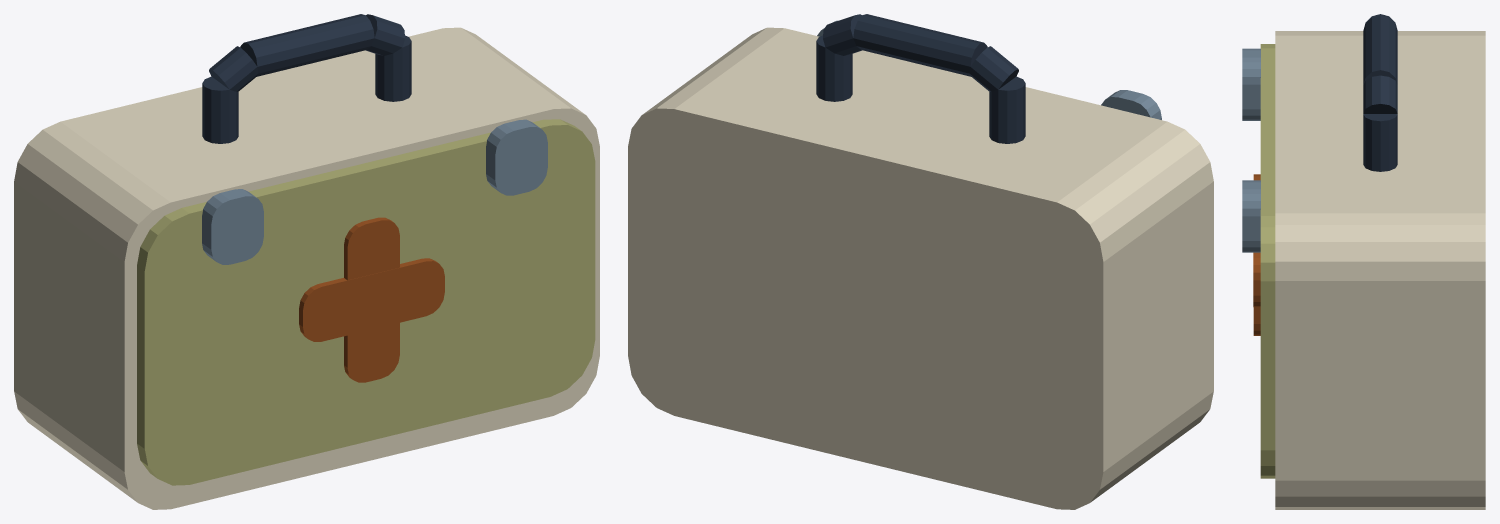
File: firstaid.glb
3 views of the same model, side by side, from view 1: azimuth 30°, elevation 25°; view 2: azimuth 150°, elevation 25°; view 3: azimuth 270°, elevation 25° (orthographic). The views are drawn at different scales.
Parts seen in each view (by area): view 1: lid, case, cross horizontal, cross vertical, carry handle2, closure 0.46, closure -0.46, carry handle0, carry handle4, carry handle1, carry handle3; view 2: case, carry handle2, carry handle0, carry handle4, carry handle1, carry handle3, closure -0.46; view 3: case, lid, carry handle2, carry handle4, closure -0.46, closure 0.46, carry handle3, cross horizontal, cross vertical.
Boxes of the visible parts, box(x1,y1,x2,y2) form: lid: box(137, 119, 595, 485); case: box(14, 27, 599, 509); cross horizontal: box(299, 258, 444, 341); cross vertical: box(344, 217, 399, 382); carry handle2: box(240, 14, 374, 76); closure 0.46: box(486, 119, 547, 195); closure -0.46: box(202, 189, 263, 264); carry handle0: box(202, 76, 238, 143); carry handle4: box(375, 35, 411, 101); carry handle1: box(209, 46, 258, 91); carry handle3: box(366, 14, 404, 55); case: box(628, 27, 1213, 509); carry handle2: box(853, 14, 987, 76); carry handle0: box(989, 76, 1025, 143); carry handle4: box(816, 35, 852, 101); carry handle1: box(969, 46, 1018, 91); carry handle3: box(823, 14, 861, 55); closure -0.46: box(1101, 90, 1161, 119); case: box(1275, 31, 1485, 509); lid: box(1260, 44, 1275, 478); carry handle2: box(1363, 15, 1397, 84); carry handle4: box(1363, 114, 1397, 171); closure -0.46: box(1242, 48, 1260, 120); closure 0.46: box(1242, 180, 1260, 252); carry handle3: box(1363, 75, 1397, 113); cross horizontal: box(1253, 252, 1260, 307); cross vertical: box(1253, 174, 1260, 335).
Size of the model in its own units: 1.54 by 1.22 by 0.7175.
